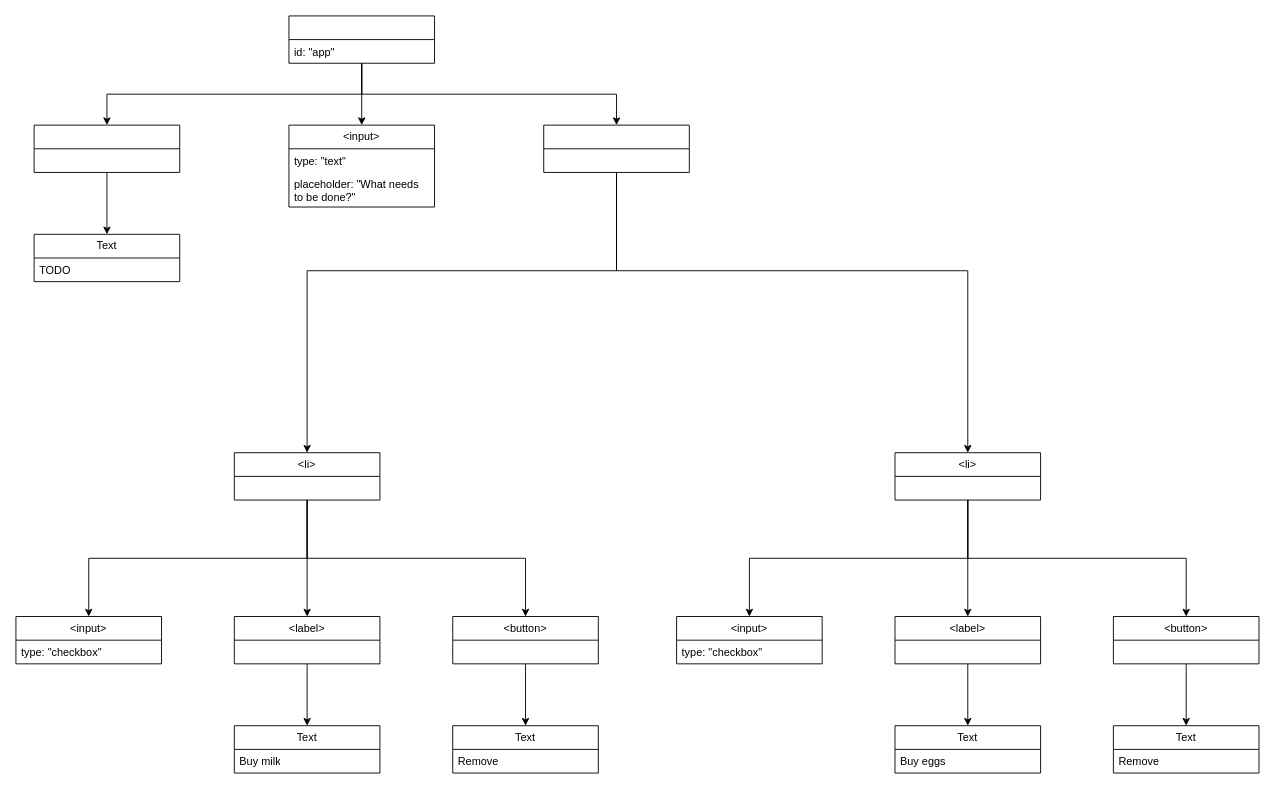
The diagram is 1275 pixels wide and 792 high, and some of its shapes have lost their labels. Here are the shapes that lost their labels. From the top down, the box of each, then its label:
(288, 15, 435, 63): <div>
(33, 124, 180, 172): <h1>
(543, 124, 689, 172): <ul>
